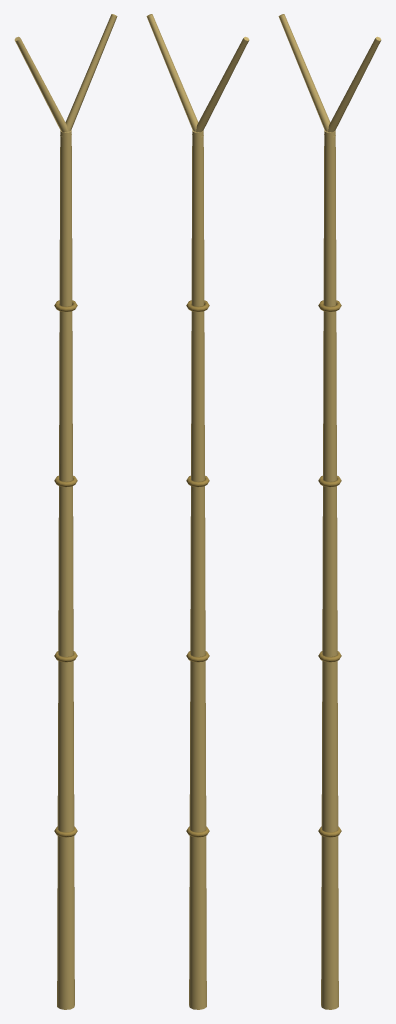
File: vara-de-bambu.glb
3 views of the same model, side by side, from view 1: azimuth 30°, elevation 25°; view 2: azimuth 150°, elevation 25°; view 3: azimuth 330°, elevation 25° (orthographic).
Parts seen in each view (by area): view 1: vara-de-bambu; view 2: vara-de-bambu; view 3: vara-de-bambu.
Part boxes in pixels (box(x1,y1,x2,y2)): vara-de-bambu: box(14, 14, 117, 1009); vara-de-bambu: box(146, 14, 249, 1009); vara-de-bambu: box(278, 14, 381, 1009).
Size of the model in its own units: 0.4362 by 4.03 by 0.088.
